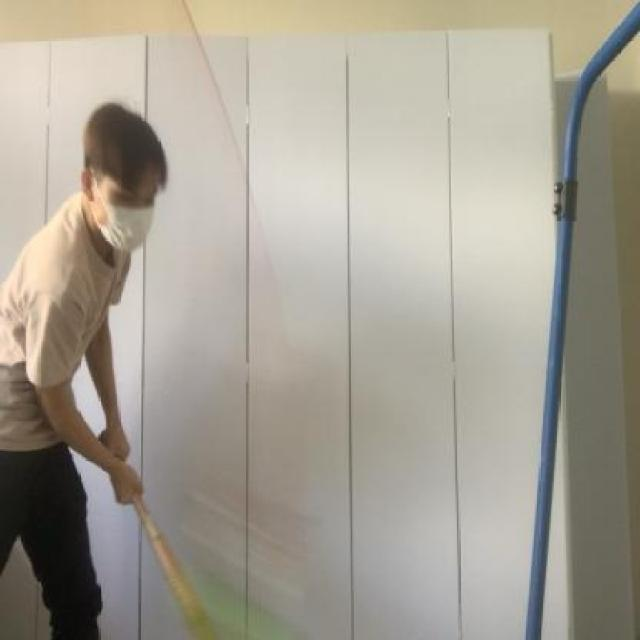baseball: (158, 543, 336, 640)
